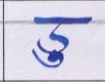u_matra: (32, 50, 67, 68)
